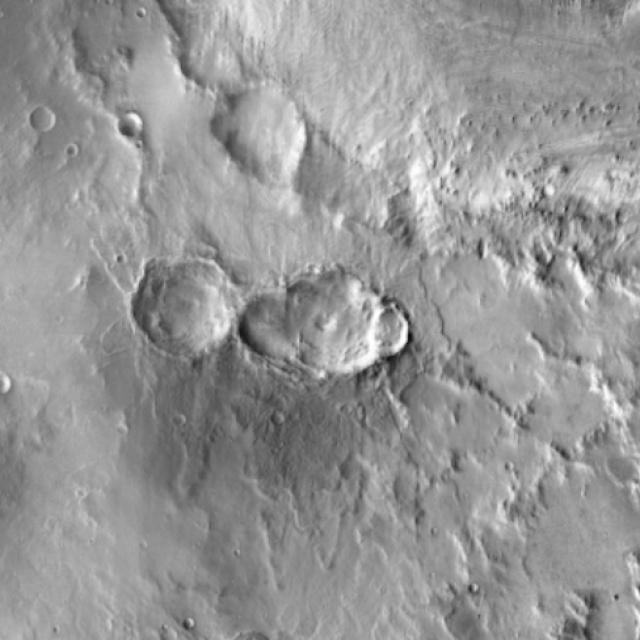Crater: (124, 0, 640, 273), (578, 619, 640, 640)
